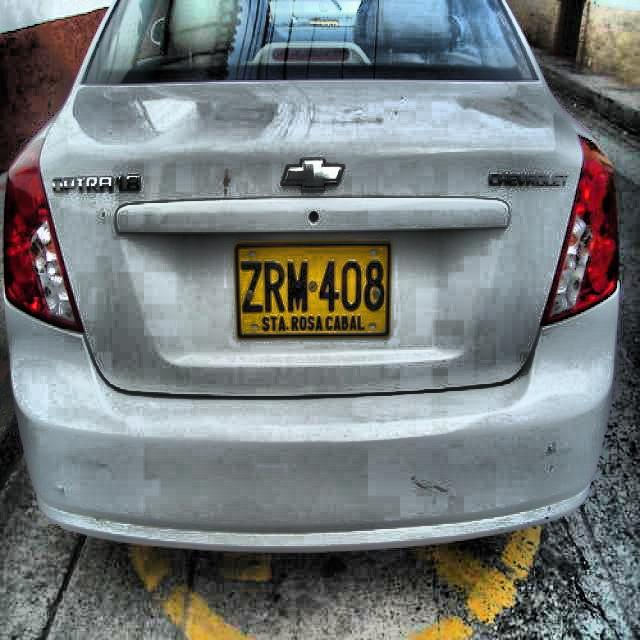plate: (236, 244, 389, 337)
